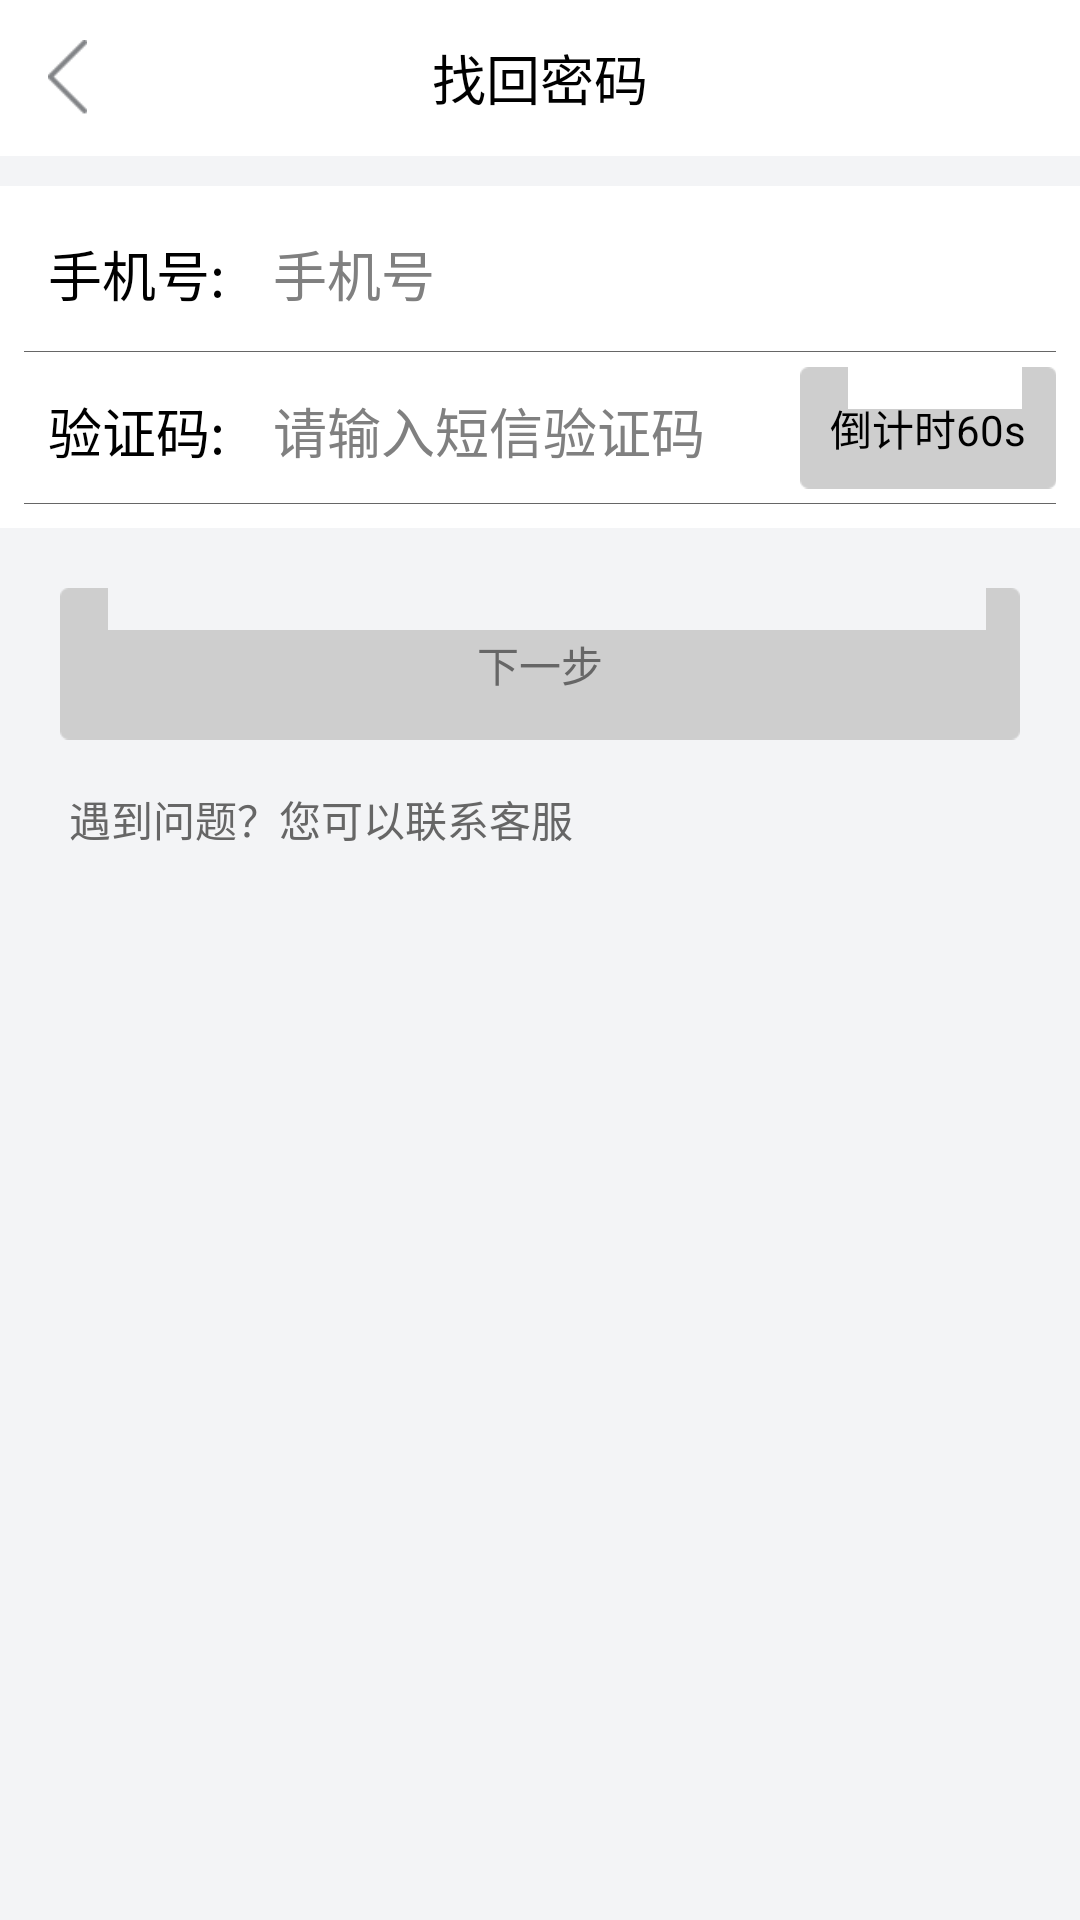

Icons on this 1080w x 1920h Android screen, each with its box as bbox(x1, y1, x2, y2):
back: bbox(48, 40, 87, 114)
